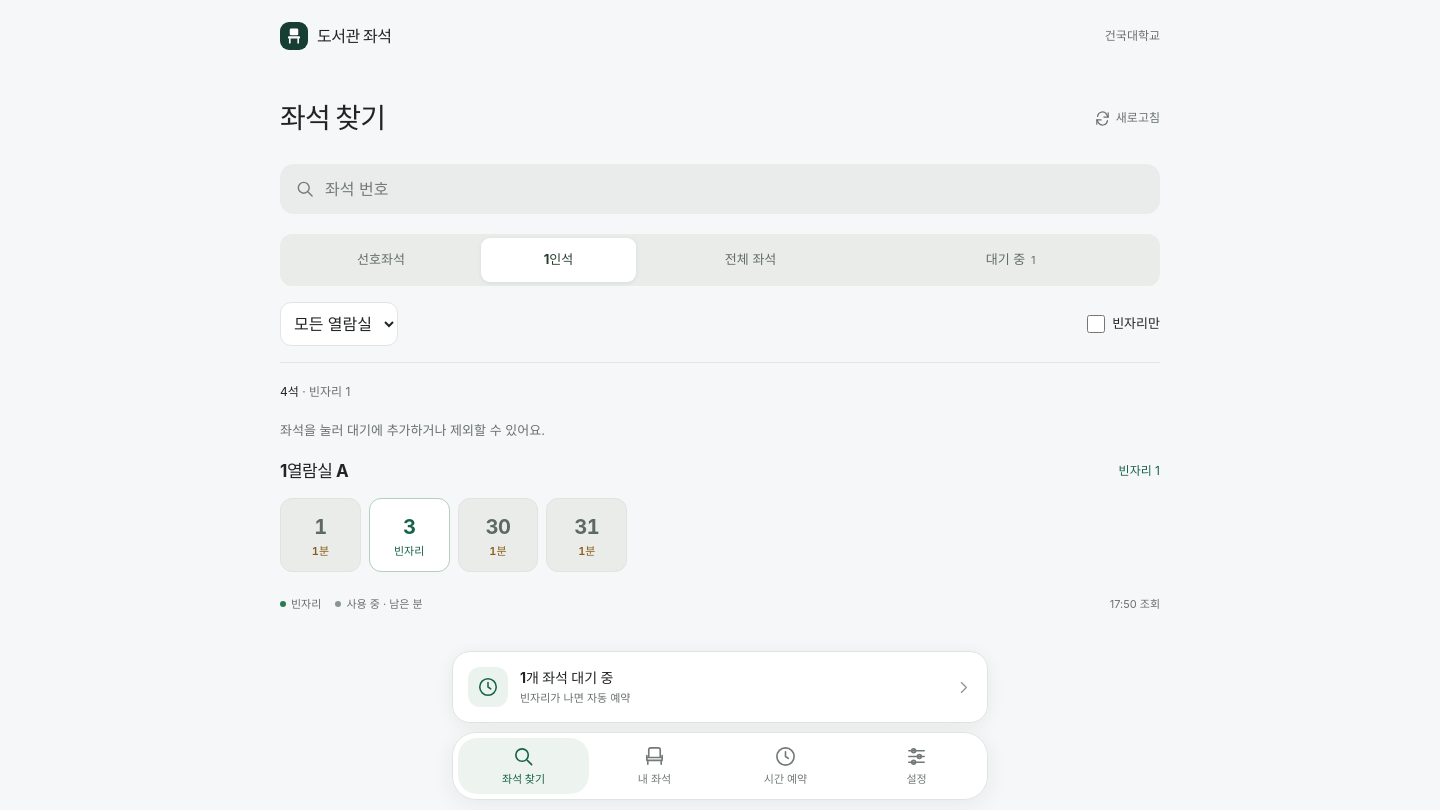
Scenario: React app with the existing account API › blocks live additions when offline and preserves existing wait targets
Expected: the heading "좌석 찾기" is shown, left=280, top=100, right=385, bottom=136
Click the button "전체 좌석" at coordinates (751, 260), box left=639, top=238, right=862, bottom=282
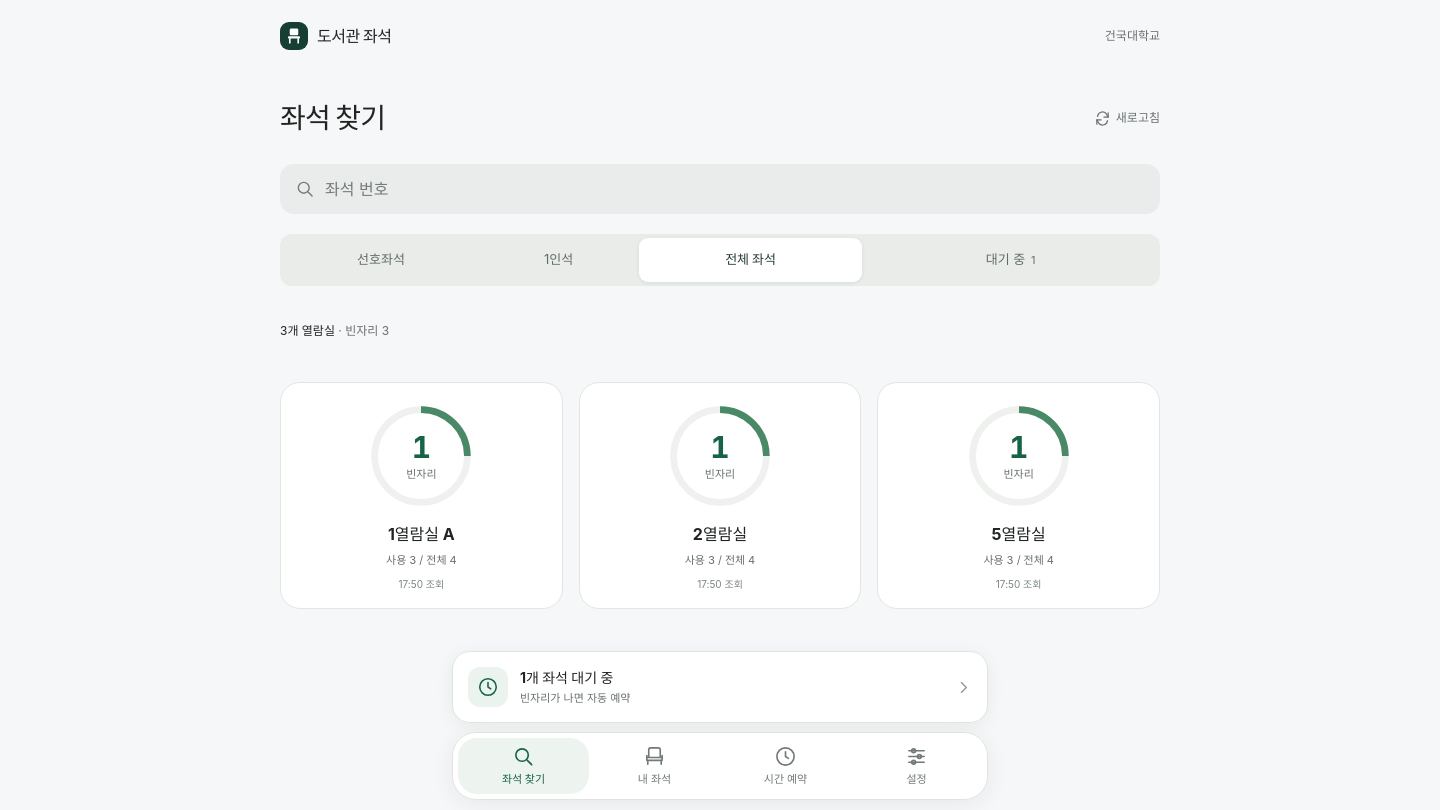
Type "열람실" into the search field at coordinates (740, 189), box left=325, top=164, right=1154, bottom=214
(page scrolled)
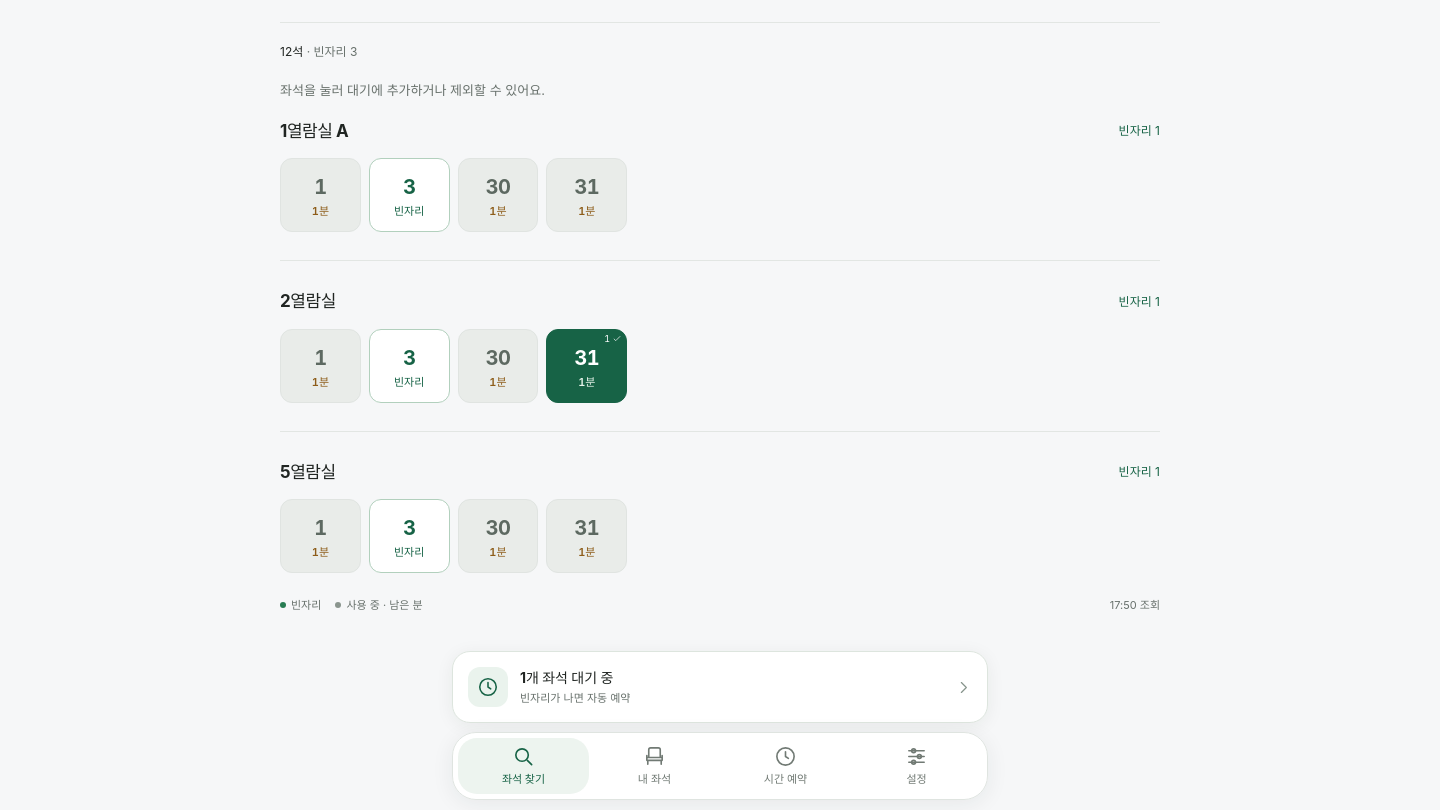
Click the button named "5열람실 1번 1분 상세 보기" at coordinates (320, 536), box left=280, top=499, right=361, bottom=573
(page scrolled)
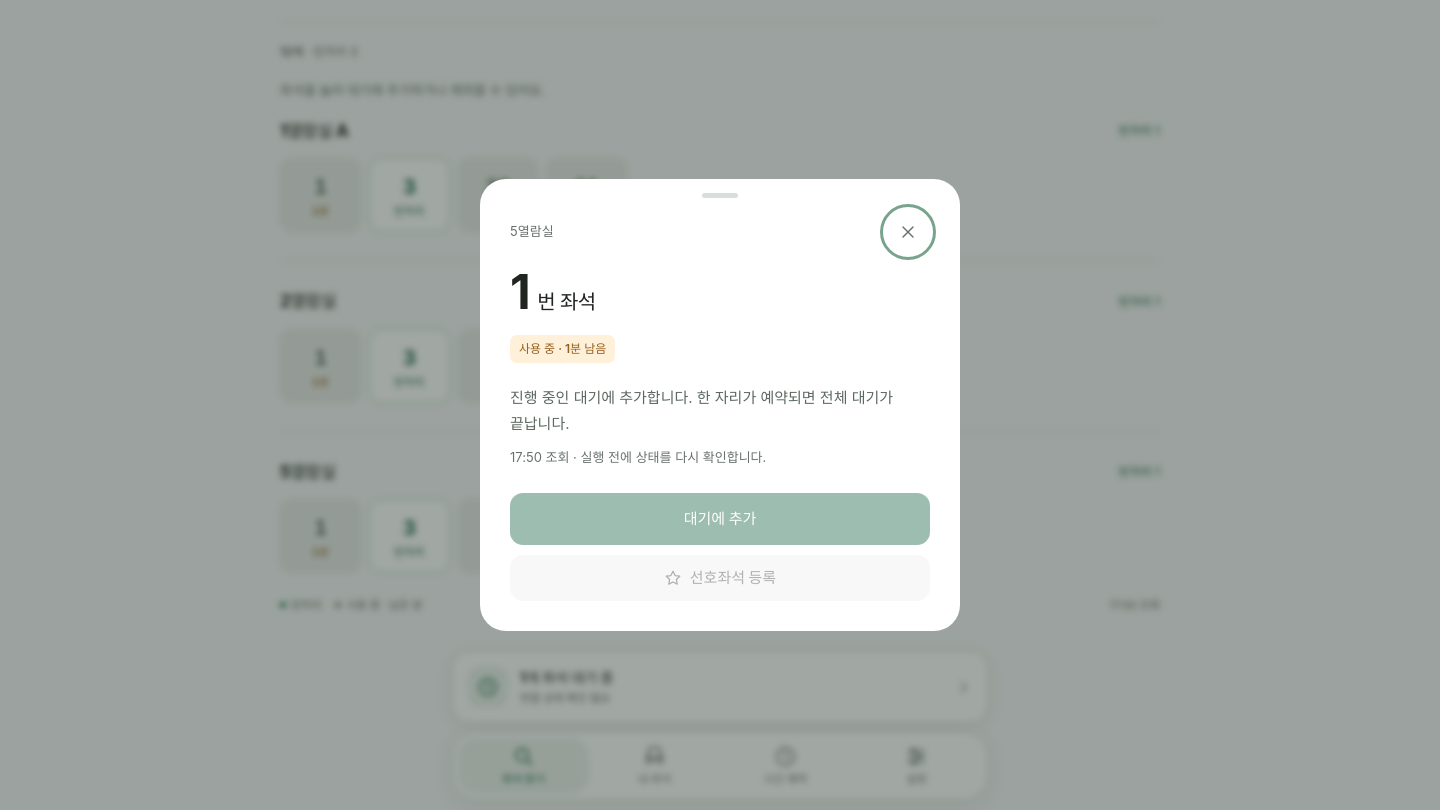
Expected: the button "대기에 추가" is disabled, left=510, top=493, right=930, bottom=545
